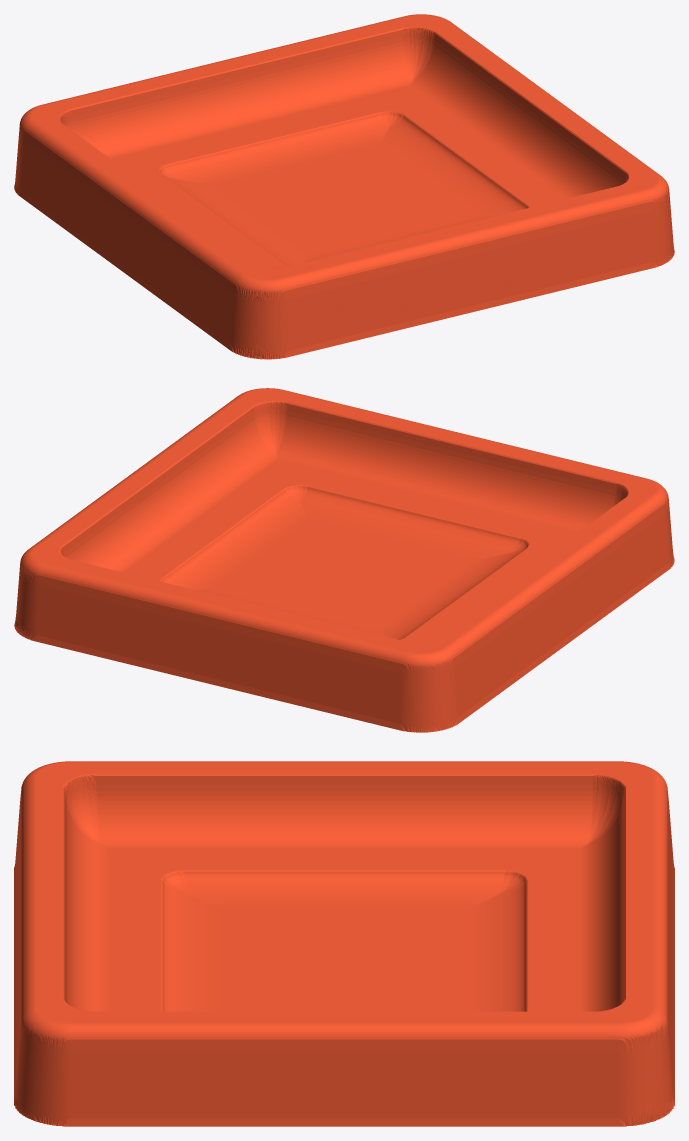
File: mold.glb
3 views of the same model, one above another, from view 1: azimuth 30°, elevation 25°; view 2: azimuth 150°, elevation 25°; view 3: azimuth 270°, elevation 25° (orthographic). The views are drawn at different scales.
Visible parts, largest first — view 1: geometry_0; view 2: geometry_0; view 3: geometry_0.
Part boxes in pixels (<box>): geometry_0: <box>14,14,674,359</box>; geometry_0: <box>14,388,674,732</box>; geometry_0: <box>14,761,674,1126</box>.
Size of the model in its own units: 0.105 by 0.0165 by 0.105.
